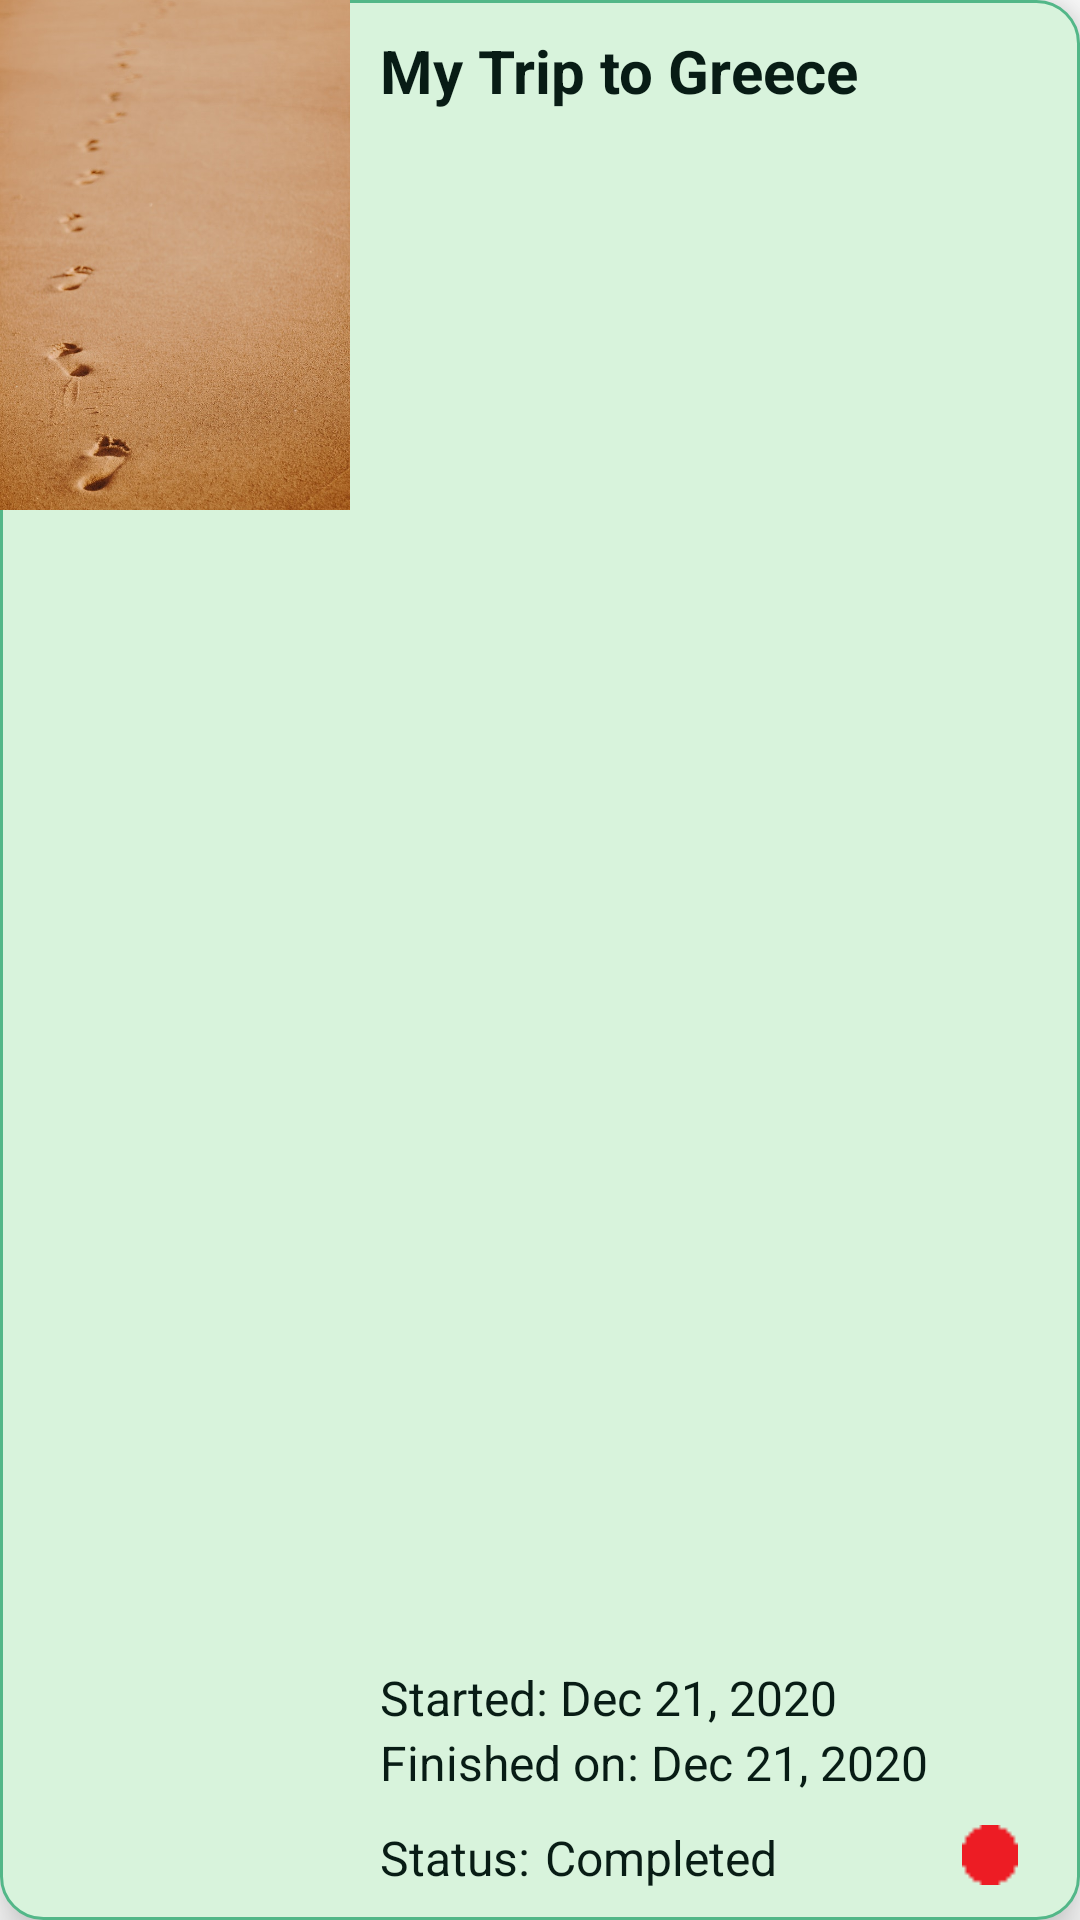

Icons on this 1080px x 1920px Android screen, each with its box as (x1, y1, x2, y2):
recording: (962, 1825, 1018, 1885)
